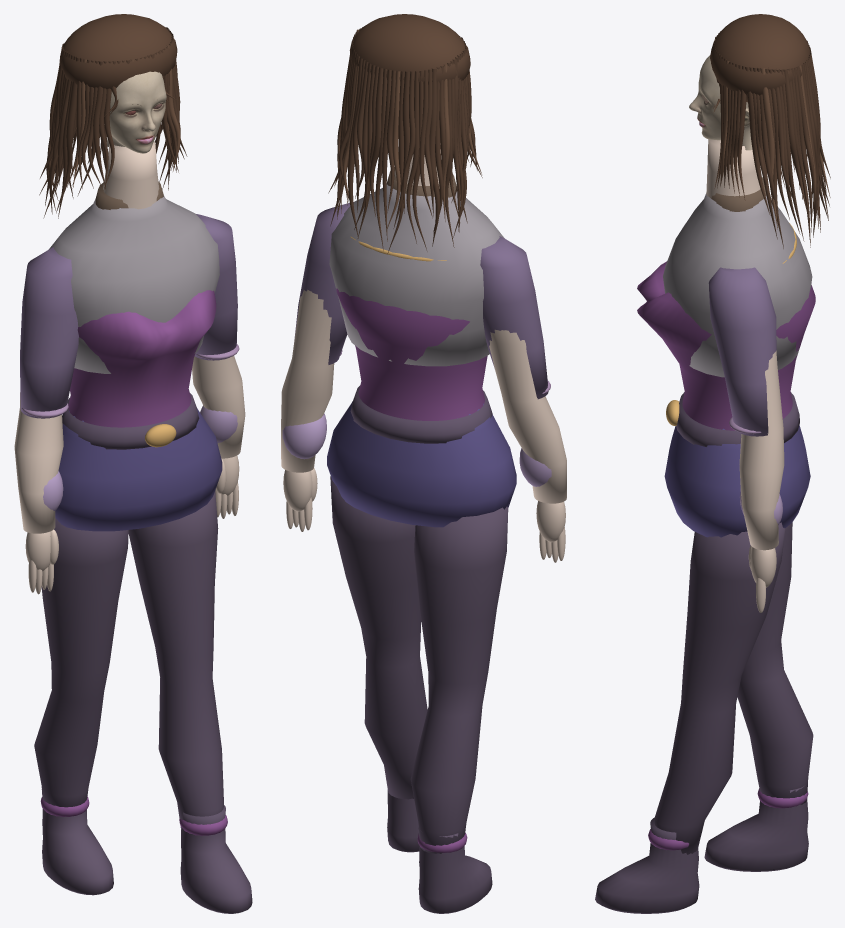
The model's file is katie_walk_0.glb.
The picture shows the model from 3 angles, left to right: view 1: azimuth 30°, elevation 25°; view 2: azimuth 150°, elevation 25°; view 3: azimuth 270°, elevation 25°; orthographic projection. The views are drawn at different scales.
Parts seen in each view (by area): view 1: Continuous trouser leg.001, Continuous trouser leg, Katie linen underlayer, Fitted hip panel, Violet sweetheart bodice, Katie smooth sleeve, Katie hair locks, Katie hair crown, Fitted boot.001, Fitted boot, Continuous arm, Imported Katie katie (+12 smaller); view 2: Continuous trouser leg, Katie linen underlayer, Katie hair locks, Continuous trouser leg.001, Fitted hip panel, Violet sweetheart bodice, Continuous arm, Katie hair crown, Katie smooth sleeve, Continuous arm.001, Fitted boot, Katie smooth sleeve.001 (+7 smaller); view 3: Continuous trouser leg.001, Katie linen underlayer, Katie hair locks, Continuous trouser leg, Fitted hip panel, Katie smooth sleeve.001, Violet sweetheart bodice, Katie hair crown, Fitted boot.001, Continuous arm.001, Fitted boot, Imported Katie katie (+6 smaller).
Part boxes in pixels (left/top/right/bottom): Continuous trouser leg.001: left=128, top=491, right=223, bottom=829; Continuous trouser leg: left=34, top=518, right=128, bottom=807; Katie linen underlayer: left=49, top=195, right=219, bottom=373; Fitted hip panel: left=55, top=408, right=222, bottom=531; Violet sweetheart bodice: left=68, top=290, right=216, bottom=427; Katie smooth sleeve: left=20, top=247, right=78, bottom=418; Katie hair locks: left=39, top=29, right=187, bottom=218; Katie hair crown: left=59, top=14, right=177, bottom=89; Fitted boot.001: left=180, top=805, right=252, bottom=913; Fitted boot: left=41, top=789, right=113, bottom=895; Continuous arm: left=14, top=392, right=63, bottom=533; Imported Katie katie: left=104, top=71, right=166, bottom=153; Continuous trouser leg: left=410, top=506, right=508, bottom=853; Katie linen underlayer: left=329, top=183, right=504, bottom=366; Katie hair locks: left=328, top=28, right=482, bottom=253; Continuous trouser leg.001: left=330, top=476, right=427, bottom=799; Fitted hip panel: left=327, top=401, right=516, bottom=527; Violet sweetheart bodice: left=336, top=288, right=487, bottom=420; Continuous arm: left=489, top=329, right=566, bottom=503; Katie hair crown: left=349, top=14, right=470, bottom=84; Katie smooth sleeve: left=480, top=236, right=548, bottom=399; Continuous arm.001: left=281, top=289, right=334, bottom=472; Fitted boot: left=418, top=827, right=492, bottom=913; Katie smooth sleeve.001: left=294, top=202, right=353, bottom=364; Continuous trouser leg.001: left=654, top=522, right=785, bottom=854; Katie linen underlayer: left=663, top=193, right=812, bottom=377; Katie hair locks: left=713, top=31, right=830, bottom=248; Continuous trouser leg: left=737, top=522, right=813, bottom=804; Fitted hip panel: left=664, top=425, right=810, bottom=537; Katie smooth sleeve.001: left=708, top=267, right=776, bottom=436; Violet sweetheart bodice: left=637, top=261, right=815, bottom=430; Katie hair crown: left=710, top=14, right=810, bottom=102; Fitted boot.001: left=595, top=817, right=699, bottom=913; Continuous arm.001: left=739, top=350, right=784, bottom=550; Fitted boot: left=704, top=786, right=808, bottom=871; Imported Katie katie: left=689, top=55, right=752, bottom=150.
Size of the model in its own units: 0.6866 by 2.23 by 0.5558.
Materials: 15 (2 with a texture image).
